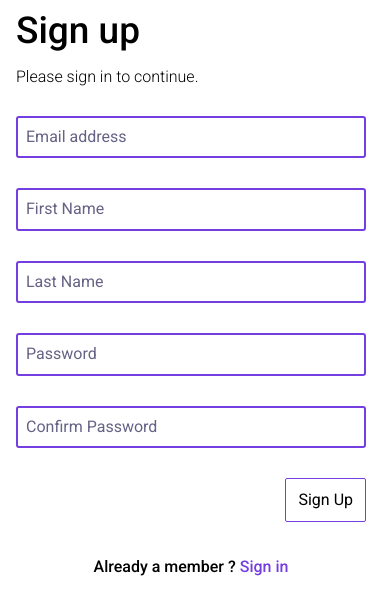
Inputs show message after click button with empty value of input
Click the button with test id "btn-sign-up": (326, 500) [286,478,366,522]
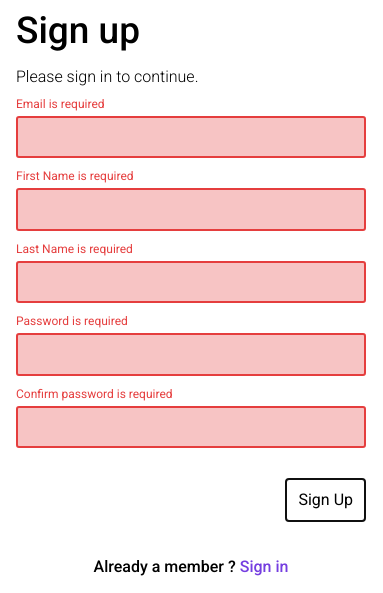
Check: the text with test id "message" reads "Email is required", box [16,97,104,111]
Check: the text with test id "message" reads "First Name is required", box [16,169,134,183]
Check: the text with test id "message" reads "Last Name is required", box [16,242,133,256]
